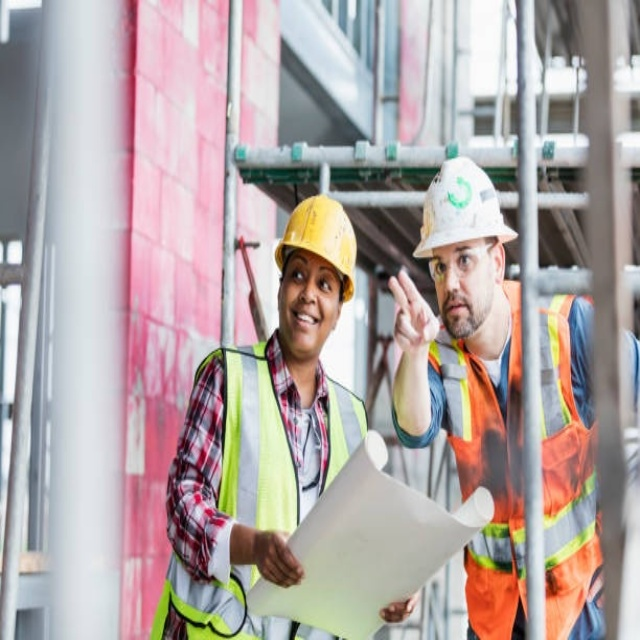Gafas: (427, 237, 503, 287)
Sin_guantes: (388, 267, 442, 349), (252, 526, 308, 589), (379, 590, 419, 624)
Sin_mascara: (288, 300, 321, 345), (442, 298, 471, 333)
